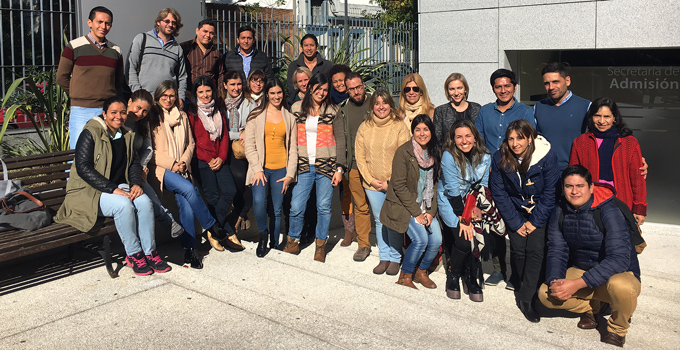person: (572, 90, 629, 176), (70, 4, 125, 84), (391, 58, 446, 134), (554, 169, 613, 237), (83, 98, 136, 172), (139, 4, 187, 83), (491, 122, 535, 193), (536, 71, 581, 137), (402, 116, 446, 180), (425, 73, 480, 123), (446, 127, 484, 190), (180, 78, 221, 128), (185, 17, 222, 69), (488, 66, 523, 120), (258, 87, 291, 142), (233, 25, 267, 73), (360, 97, 398, 135)
